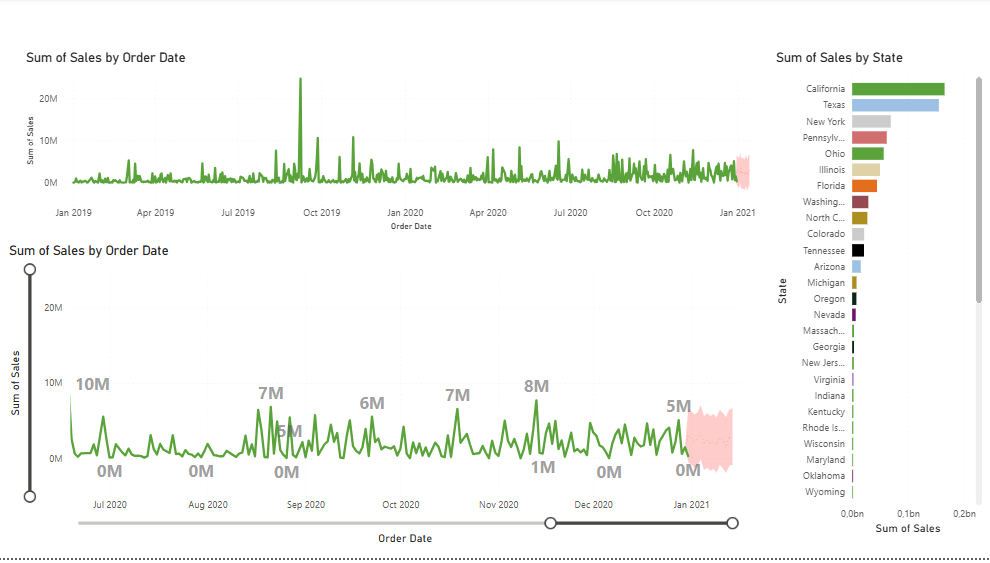

The page's visual inventory and layout, read from the dashboard file:
{"tool":"powerbi","page":{"name":"Page 2","canvas":[1280,720],"ordinal":1},"visuals":[{"type":"lineChart","fields":{"Y":["Sum(SuperStore_Sales_Dataset.Sales)"],"Category":["SuperStore_Sales_Dataset.Order Date"]},"box":[30.8,66.8,963.9,236.5],"z":0},{"type":"lineChart","fields":{"Y":["Sum(SuperStore_Sales_Dataset.Sales)"],"Category":["SuperStore_Sales_Dataset.Order Date"]},"box":[9,314.9,963.9,392],"z":1},{"type":"clusteredBarChart","fields":{"Category":["SuperStore_Sales_Dataset.State"],"Y":["Sum(SuperStore_Sales_Dataset.Sales)"]},"box":[994.7,66.8,275,627.1],"z":2}]}

Visuals, with their boxes in screenshot pixels (x1, y1, x2, y2), scaled from the page's 1280x720 canvas onto the 990x563 screenshot:
lineChart - Sum(SuperStore_Sales_Dataset.Sales) x SuperStore_Sales_Dataset.Order Date: [24, 52, 769, 237]
lineChart - Sum(SuperStore_Sales_Dataset.Sales) x SuperStore_Sales_Dataset.Order Date: [7, 246, 752, 553]
clusteredBarChart - SuperStore_Sales_Dataset.State x Sum(SuperStore_Sales_Dataset.Sales): [769, 52, 982, 543]
